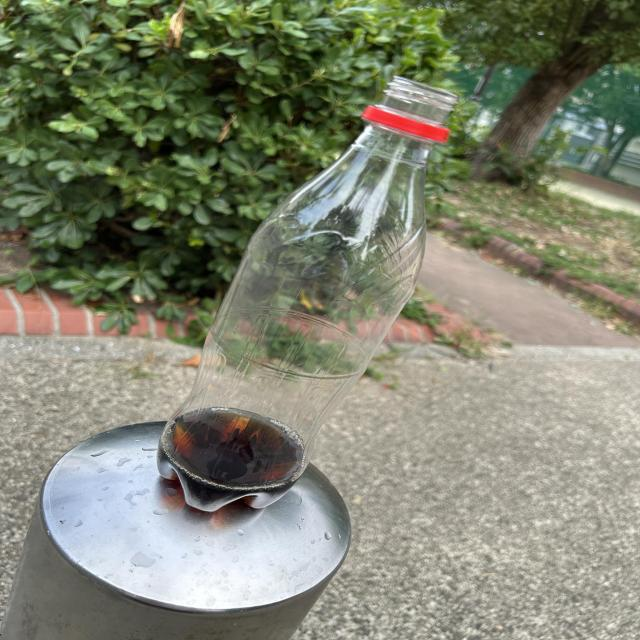low: (158, 76, 457, 511)
